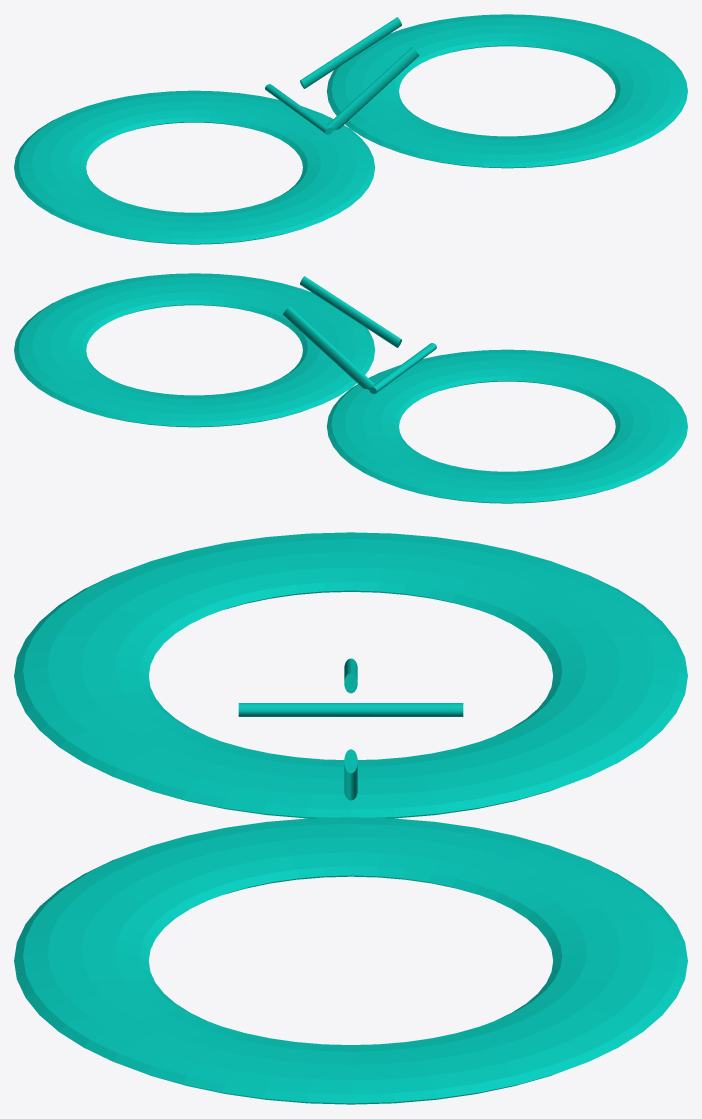
3 renders of one model, top to bottom at view 1: azimuth 30°, elevation 25°; view 2: azimuth 150°, elevation 25°; view 3: azimuth 270°, elevation 25°, orthographic. The views are drawn at different scales.
Visible parts, largest first — view 1: Torus.016, Torus.017, DownTube, TopTube, SeatTube; view 2: Torus.016, Torus.017, DownTube, TopTube, SeatTube; view 3: Torus.017, Torus.016, SeatTube.
Part boxes in pixels (<box>): Torus.016: <box>14,90,375,244</box>; Torus.017: <box>326,14,687,168</box>; DownTube: <box>327,47,419,130</box>; TopTube: <box>300,17,401,88</box>; SeatTube: <box>265,84,332,134</box>; Torus.016: <box>326,349,687,503</box>; Torus.017: <box>14,273,375,427</box>; DownTube: <box>282,306,374,389</box>; TopTube: <box>300,276,401,347</box>; SeatTube: <box>369,343,436,393</box>; Torus.017: <box>14,817,687,1104</box>; Torus.016: <box>14,532,687,818</box>; SeatTube: <box>238,703,463,716</box>.
Size of the model in its own units: 6 by 0.9731 by 3.
